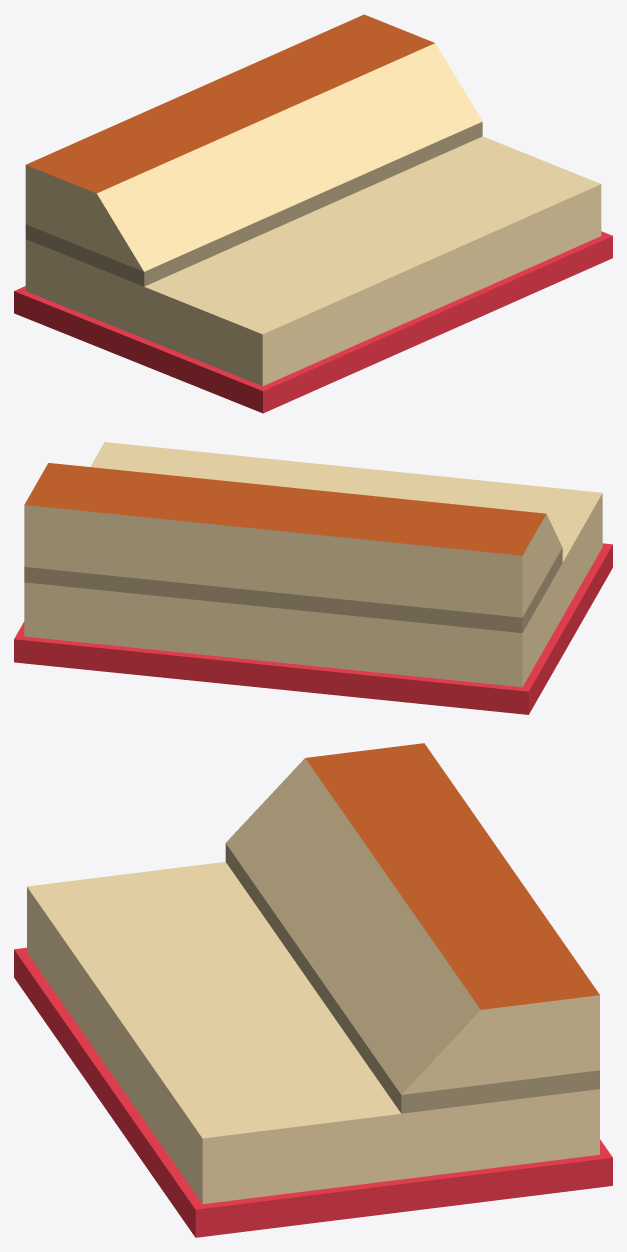
The model's file is Market_Stand_1.fbx.
3 views of the same model, one above another, from view 1: azimuth 30°, elevation 25°; view 2: azimuth 150°, elevation 25°; view 3: azimuth 270°, elevation 25° (orthographic). The views are drawn at different scales.
Visible parts, largest first — view 1: Market_Stand_1; view 2: Market_Stand_1; view 3: Market_Stand_1.
Part boxes in pixels (bbox=[...]): Market_Stand_1: bbox=[14, 14, 612, 413]; Market_Stand_1: bbox=[14, 442, 612, 714]; Market_Stand_1: bbox=[14, 743, 612, 1237].
Size of the model in its own units: 178 by 50 by 145.
